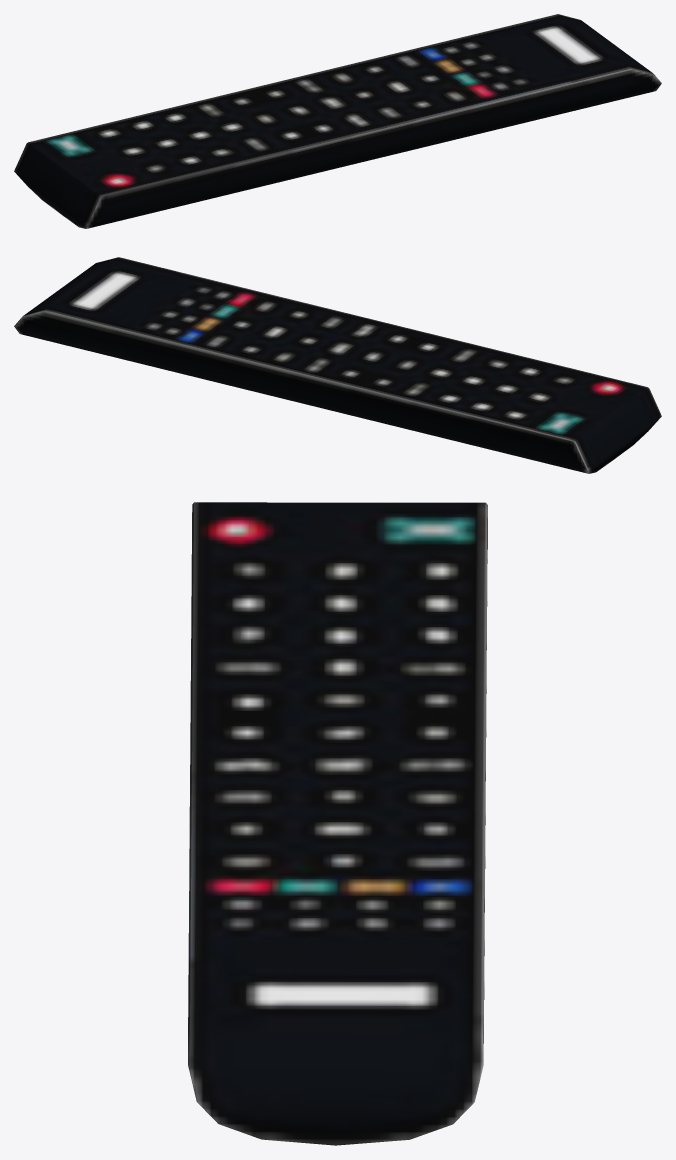
File: SA_Remote.fbx
The picture shows the model from 3 angles, top to bottom: view 1: azimuth 30°, elevation 25°; view 2: azimuth 150°, elevation 25°; view 3: azimuth 270°, elevation 25°; orthographic projection. The views are drawn at different scales.
Visible parts, largest first — view 1: prop_SA_Remote; view 2: prop_SA_Remote; view 3: prop_SA_Remote.
Boxes of the visible parts, <box> form: prop_SA_Remote: <box>14,14,661,228</box>; prop_SA_Remote: <box>14,257,661,473</box>; prop_SA_Remote: <box>188,502,487,1145</box>.
Bounding box in the file's own units: 0.4452 × 0.0349 × 0.1003.
